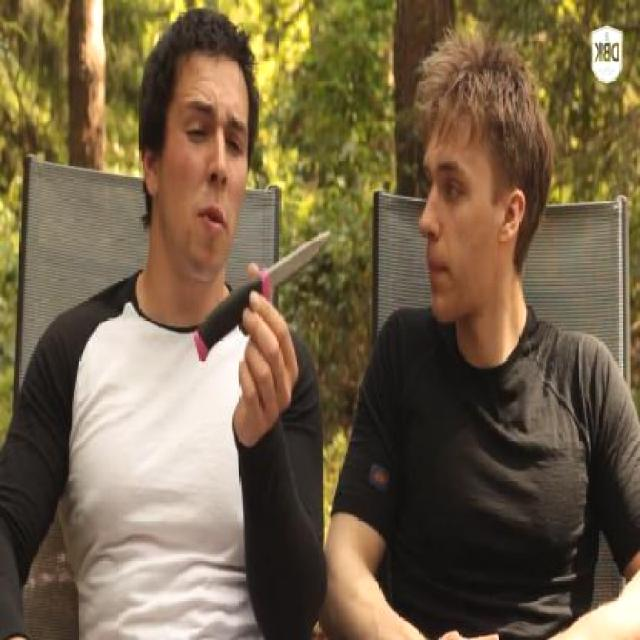knife: (188, 216, 340, 370)
